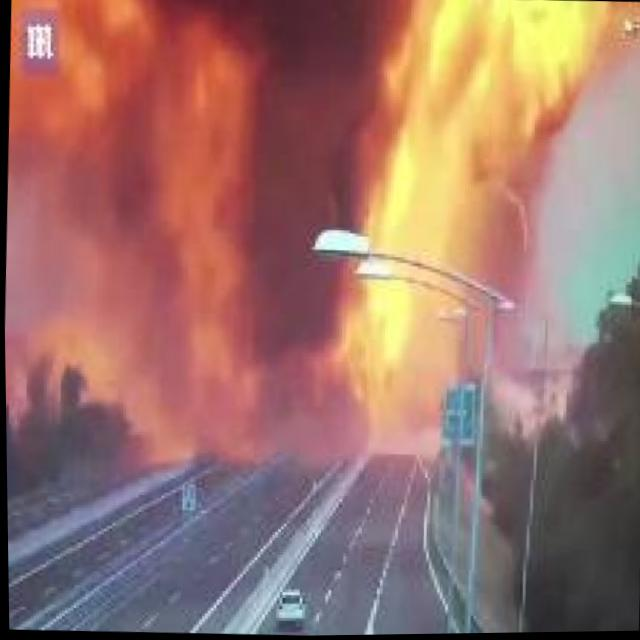fire: (333, 0, 625, 472), (52, 0, 284, 460)
